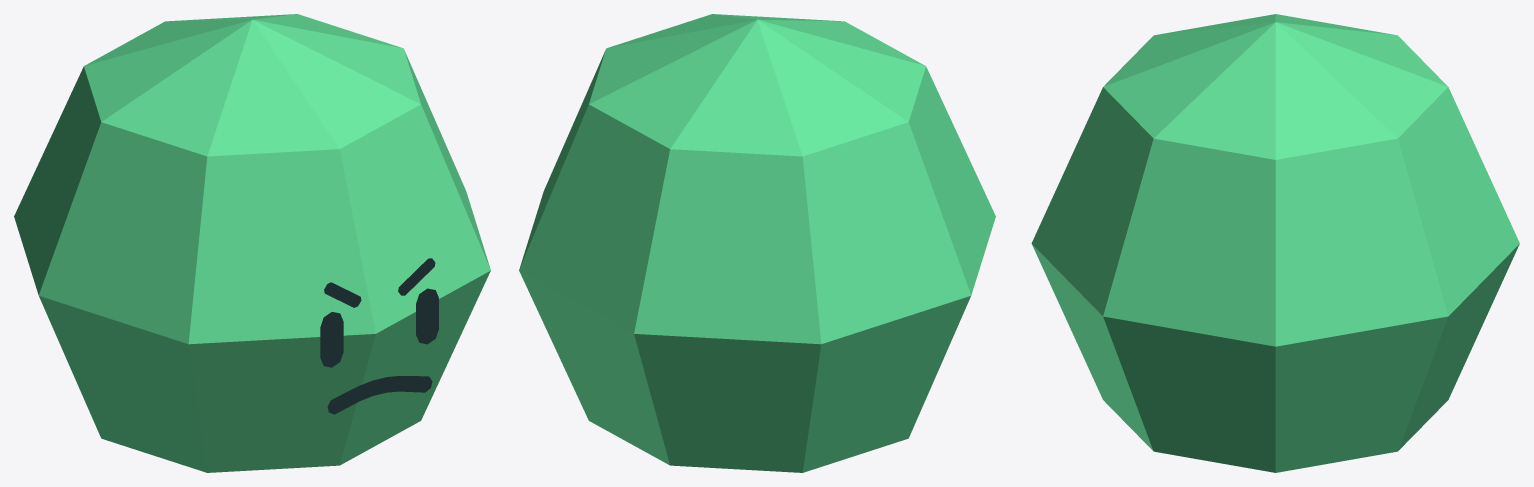
Rendered from player_ball.fbx.
The picture shows the model from 3 angles, left to right: view 1: azimuth 30°, elevation 25°; view 2: azimuth 150°, elevation 25°; view 3: azimuth 270°, elevation 25°; orthographic projection.
Visible parts, largest first — view 1: BallSphere, BallEyes, BallMouth, BallEyebrow; view 2: BallSphere; view 3: BallSphere.
Part boxes in pixels (left/top/right/bottom): BallSphere: left=14, top=14, right=490, bottom=472; BallEyes: left=320, top=288, right=438, bottom=367; BallMouth: left=327, top=376, right=432, bottom=414; BallEyebrow: left=324, top=258, right=435, bottom=307; BallSphere: left=519, top=14, right=995, bottom=472; BallSphere: left=1031, top=14, right=1519, bottom=472.
Bounding box in the file's own units: 160 × 160 × 162.
